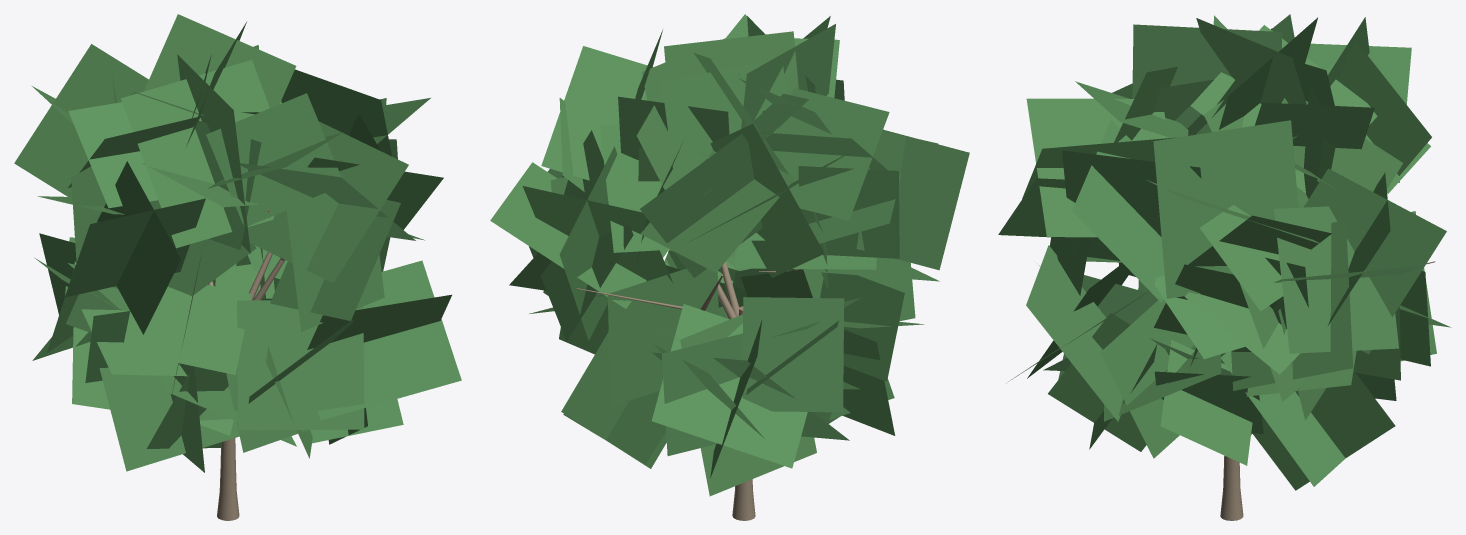
The model's file is tree_ficus_indoor.glb.
3 views of the same model, side by side, from view 1: azimuth 30°, elevation 25°; view 2: azimuth 150°, elevation 25°; view 3: azimuth 270°, elevation 25° (orthographic). The views are drawn at different scales.
Visible parts, largest first — view 1: tree_ficus_indoor; view 2: tree_ficus_indoor; view 3: tree_ficus_indoor.
Part boxes in pixels (<box>): tree_ficus_indoor: <box>14,14,461,520</box>; tree_ficus_indoor: <box>490,14,969,520</box>; tree_ficus_indoor: <box>998,14,1451,520</box>.
Size of the model in its own units: 4.36 by 5.44 by 4.53.
